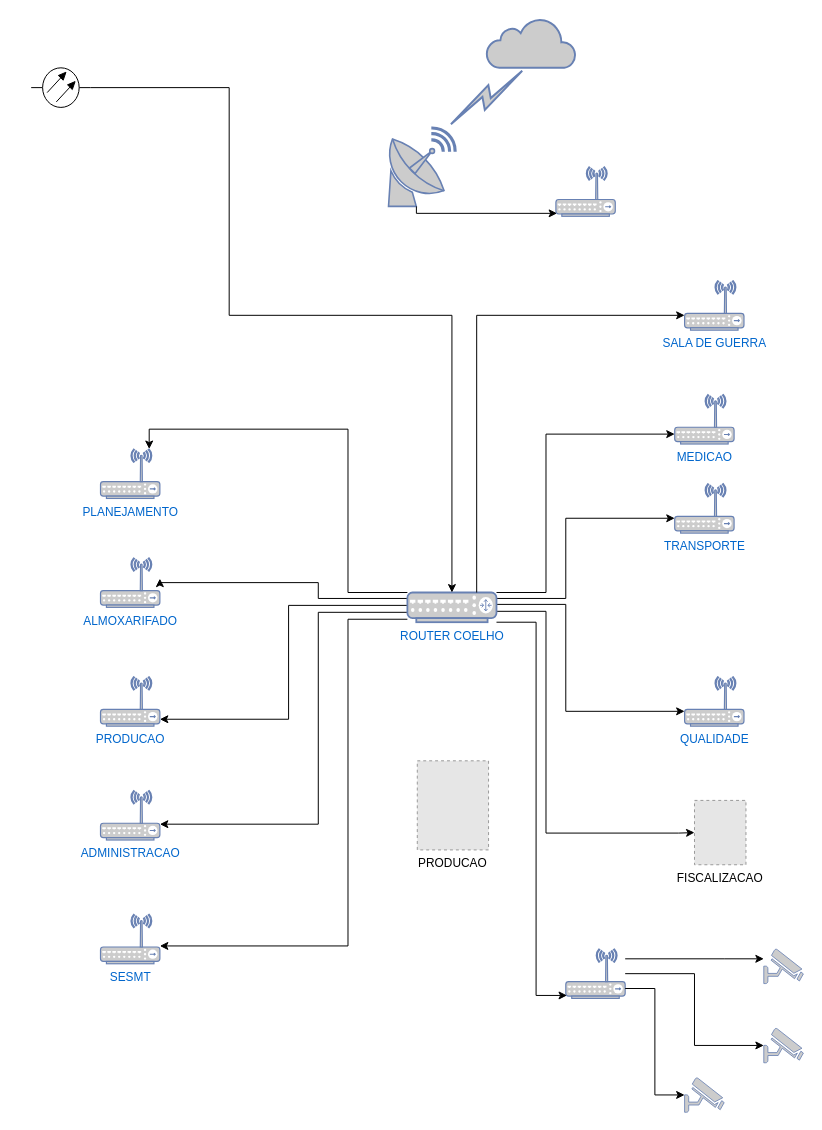
This 822x1130 diagram has some shape labels left out. Grey dashed boxes stand in for pictures. Each missing label, with the centre of its shape:
"FIBRA COELHO" belongs at pixel 60 87.
"GERENCIA STARLINK" belongs at pixel 585 191.
"INTERENET" belongs at pixel 530 42.
"PRODUCAO CFTV" belongs at pixel 595 973.
